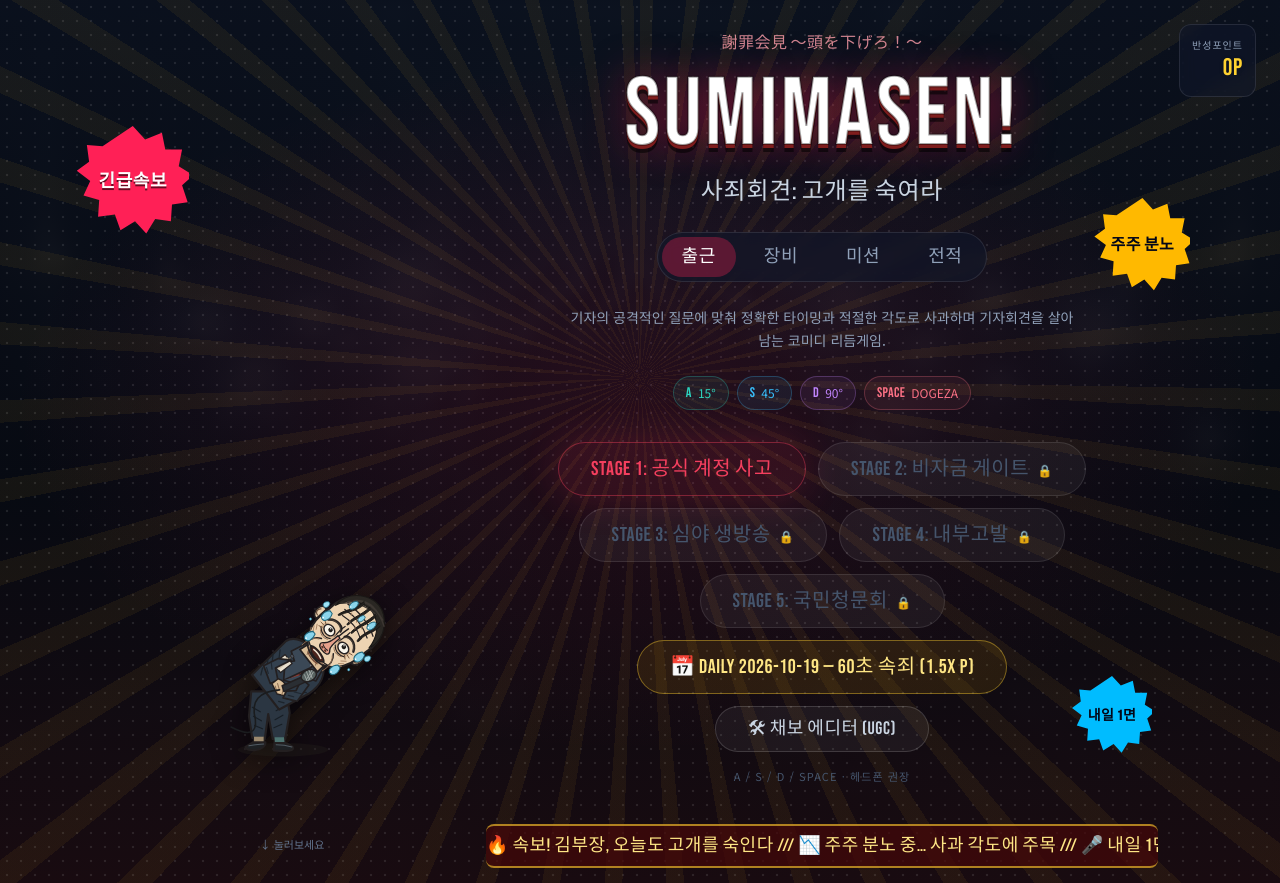
Test case: TitleScreen › 미션 탭: 이미 수령한 미션은 완료 표시로 바뀐다
Click the button "미션" at (863, 257), box x1=826 y1=237 x2=900 y2=277
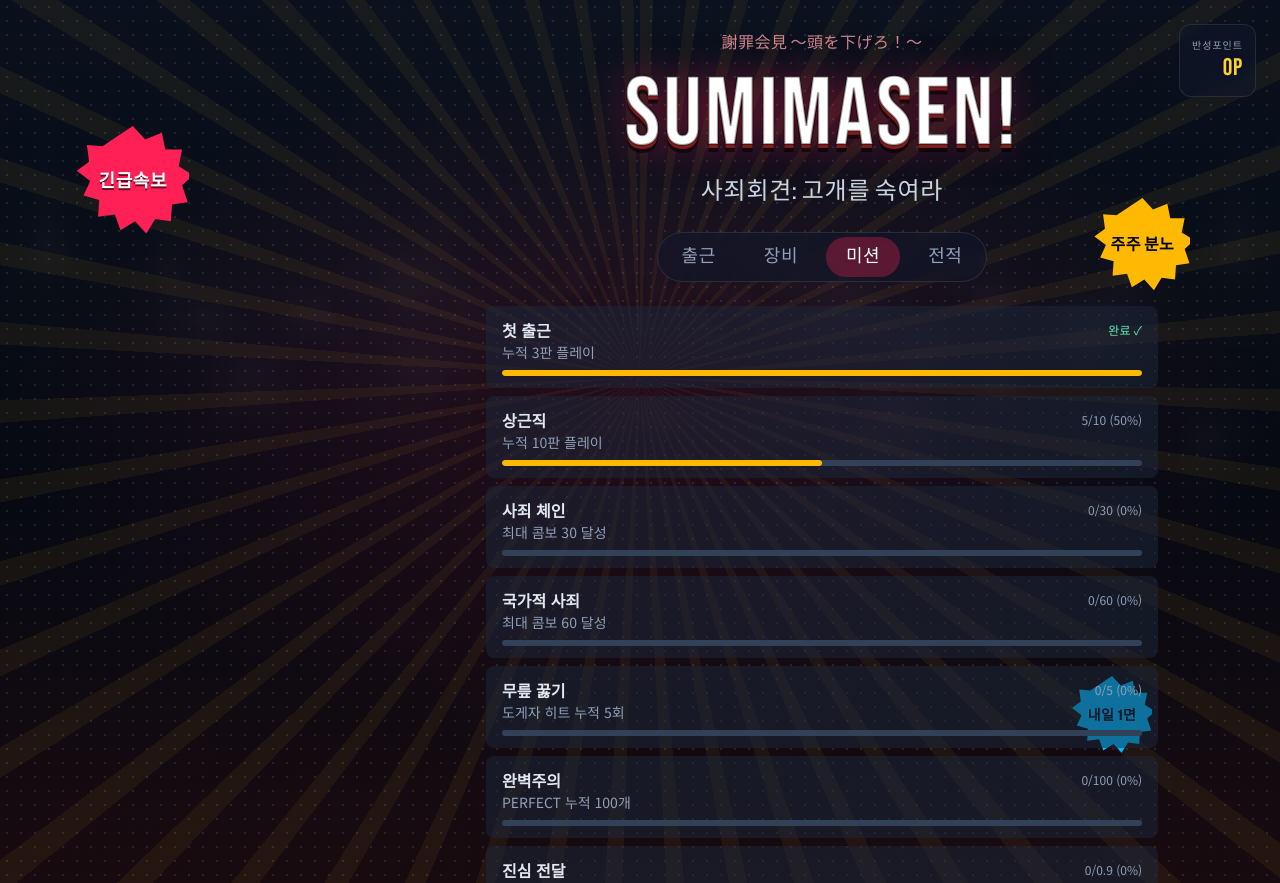
Check: the text "완료 ✓" is shown, box x1=1108 y1=322 x2=1142 y2=338
